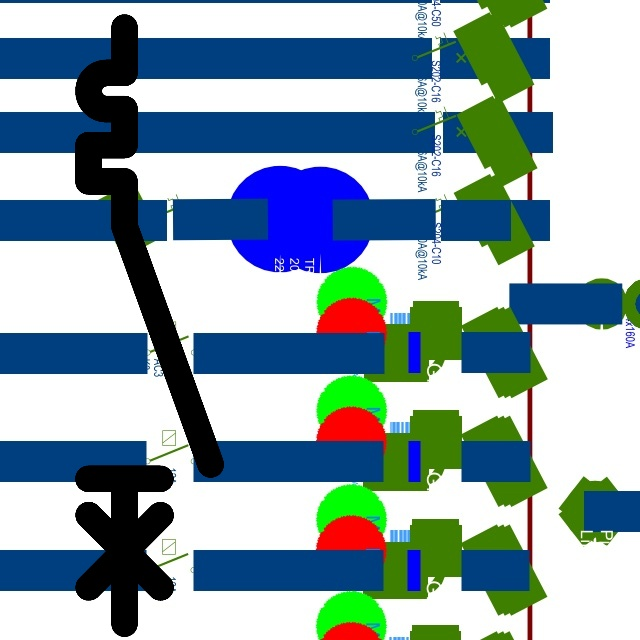interruptor_termomagnetico: (73, 12, 226, 639)
